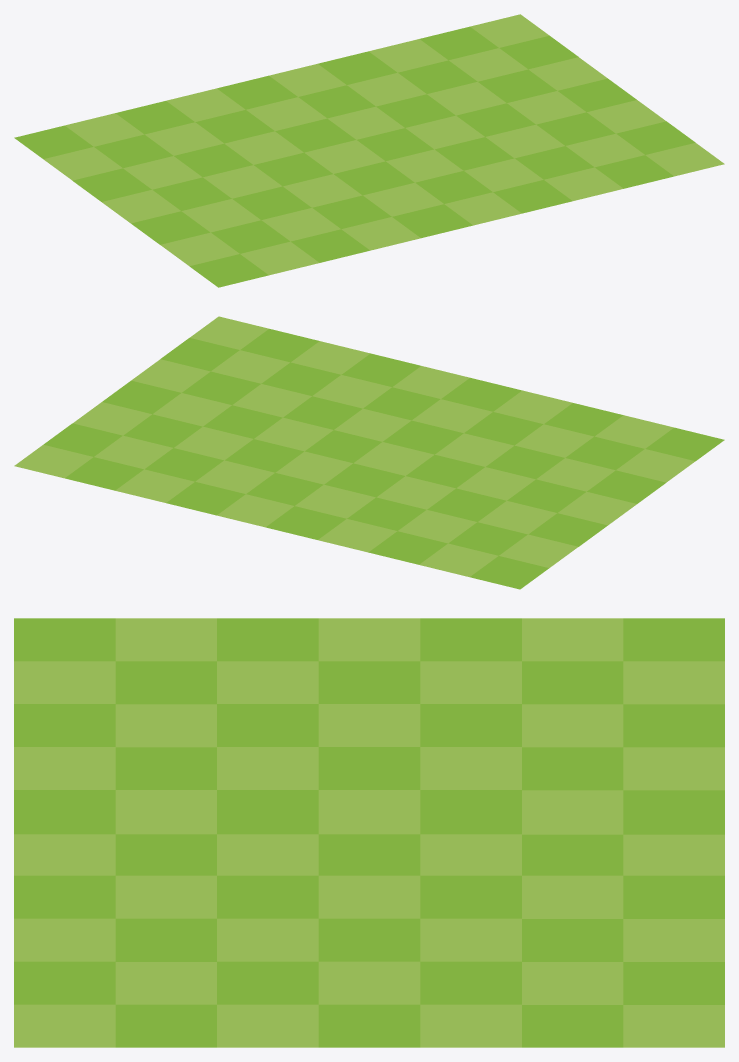
File: Grass7.fbx
3 views of the same model, one above another, from view 1: azimuth 30°, elevation 25°; view 2: azimuth 150°, elevation 25°; view 3: azimuth 270°, elevation 25° (orthographic). The views are drawn at different scales.
Visible parts, largest first — view 1: Plane.002; view 2: Plane.002; view 3: Plane.002.
Part boxes in pixels (x1,y1,x2,y2): Plane.002: [14, 14, 724, 287]; Plane.002: [14, 316, 724, 589]; Plane.002: [14, 618, 724, 1047].
Size of the model in its own units: 10 by 1.14e-06 by 7.
